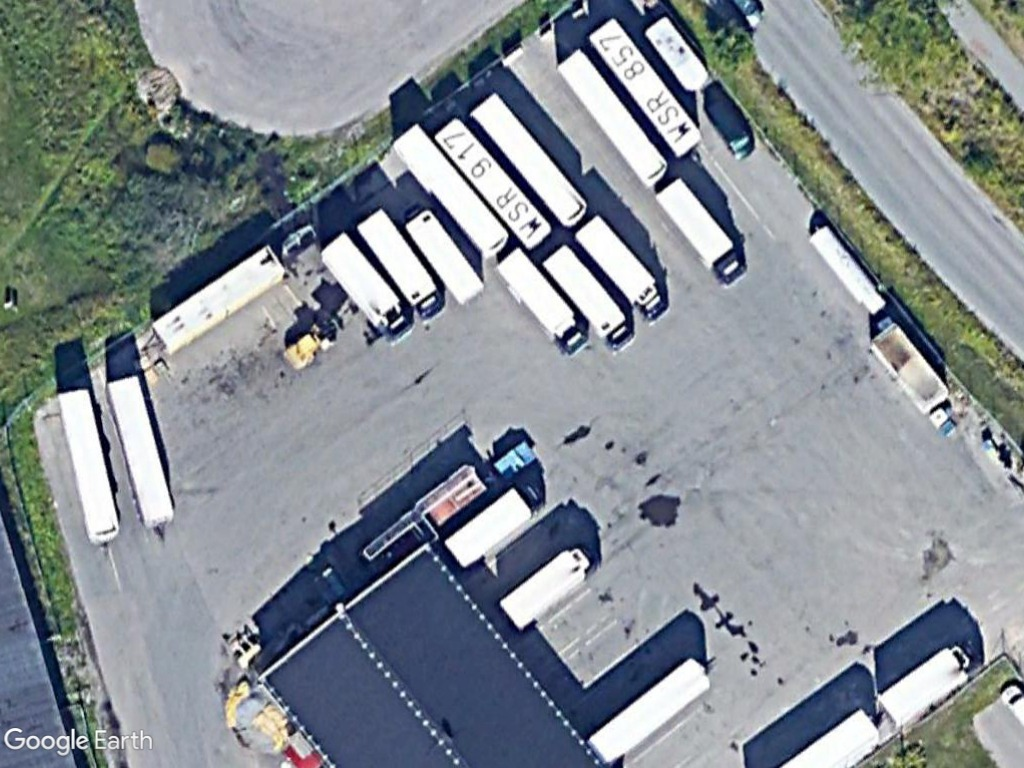truck: (491, 237, 598, 362), (534, 236, 645, 356), (316, 223, 420, 349), (649, 169, 754, 292), (569, 213, 676, 329), (352, 204, 451, 325), (440, 475, 552, 573), (493, 540, 603, 633), (869, 639, 983, 727)
van: (698, 87, 762, 163)
